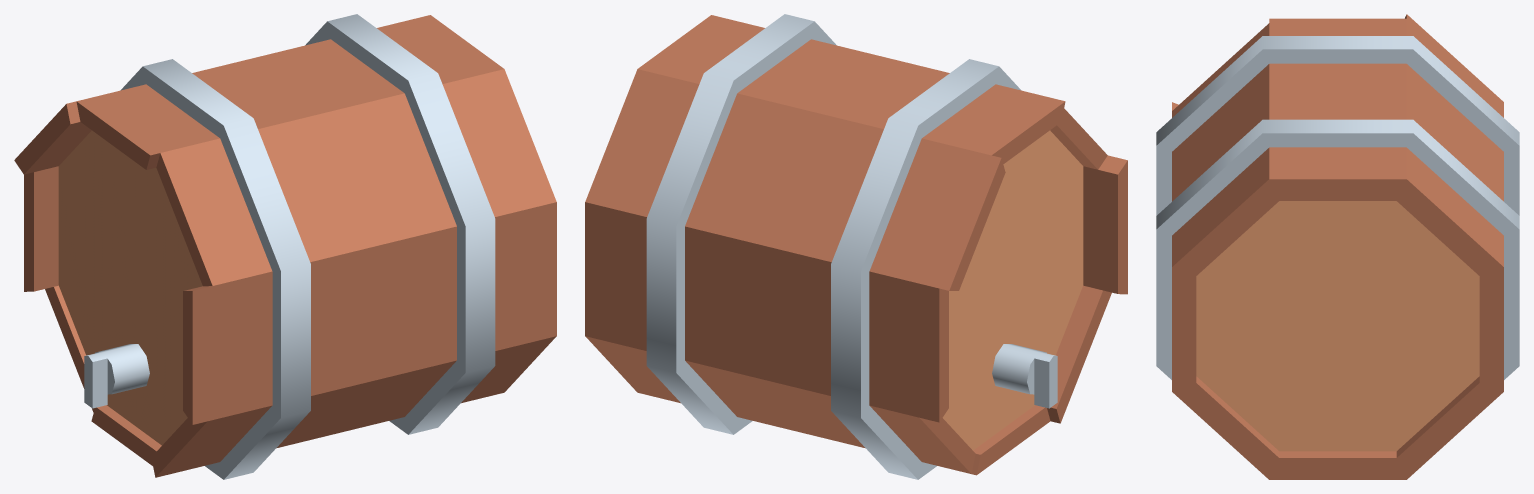
File: barrel.GLB
3 views of the same model, side by side, from view 1: azimuth 30°, elevation 25°; view 2: azimuth 150°, elevation 25°; view 3: azimuth 270°, elevation 25° (orthographic). The views are drawn at different scales.
Parts seen in each view (by area): view 1: barrel; view 2: barrel; view 3: barrel.
Boxes of the visible parts, box(x1,y1,x2,y2) form: barrel: box(14, 14, 556, 479); barrel: box(585, 14, 1127, 479); barrel: box(1156, 14, 1519, 479).
Size of the model in its own units: 0.76 by 0.6789 by 0.6789.
